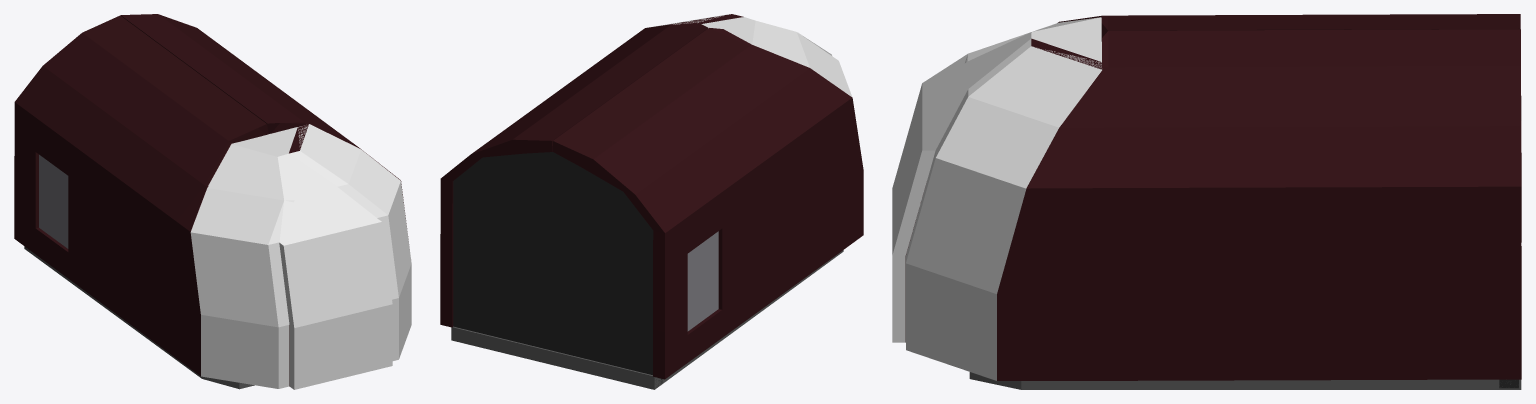
The model's file is interior da nave.fbx.
The picture shows the model from 3 angles, left to right: view 1: azimuth 30°, elevation 25°; view 2: azimuth 150°, elevation 25°; view 3: azimuth 270°, elevation 25°; orthographic projection. The views are drawn at different scales.
Parts seen in each view (by area): view 1: painel de controle, painel de controle.001, Porta, chão; view 2: painel de controle, Parede de trás, chão, painel de controle.001, Porta; view 3: painel de controle, painel de controle.001, chão.
Boxes of the visible parts, x1,y1,x2,y2 form: painel de controle: (14, 14, 408, 386); painel de controle.001: (190, 124, 411, 389); Porta: (39, 154, 68, 248); chão: (24, 246, 254, 389); painel de controle: (440, 14, 863, 379); Parede de trás: (453, 152, 662, 387); chão: (451, 250, 843, 389); painel de controle.001: (653, 14, 852, 97); Porta: (687, 231, 718, 331); painel de controle: (905, 14, 1521, 380); painel de controle.001: (892, 17, 1101, 380); chão: (969, 372, 1521, 389).
Bounding box in the file's own units: 375 × 360 × 690.
